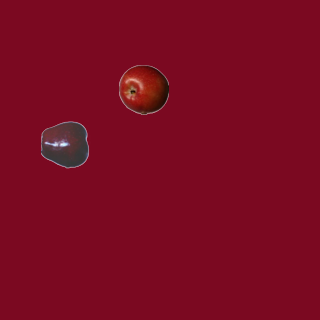Apple Braeburn: (118, 64, 168, 114)
Apple Red Delicious: (40, 119, 90, 169)
